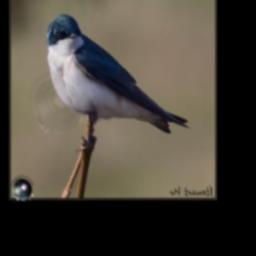Swallow: (46, 13, 191, 133)
